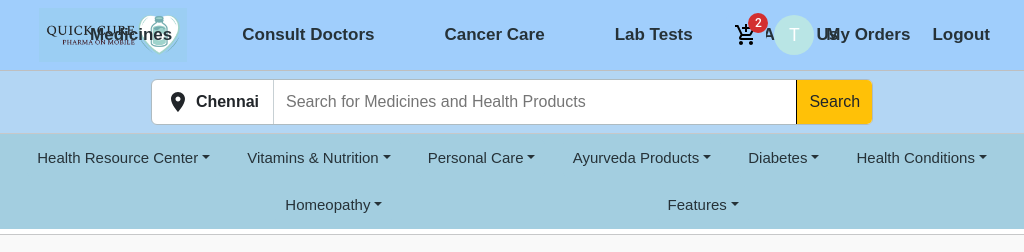
Test case: logout clears the local user and session token
Click the button "Logout". click: click(961, 35)
box: 922,14 -> 1000,56
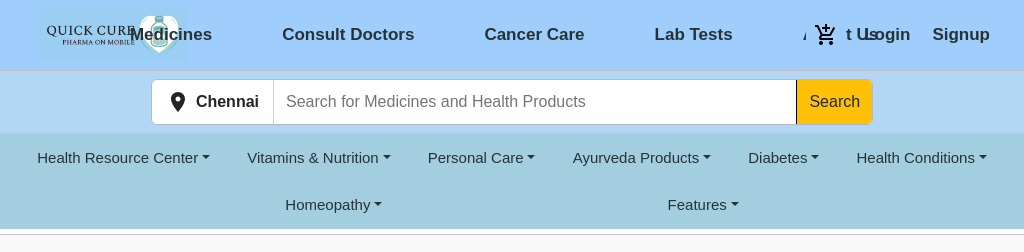
Result: the button "Login" is shown at 854,14 -> 920,56
Result: the button named "Open cart, 0 items" is shown at 806,15 -> 846,55
